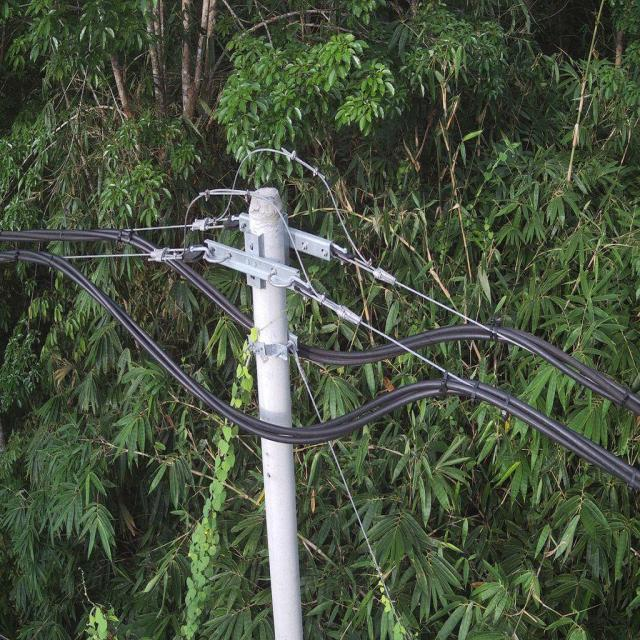critical vegetation: (168, 318, 266, 630)
